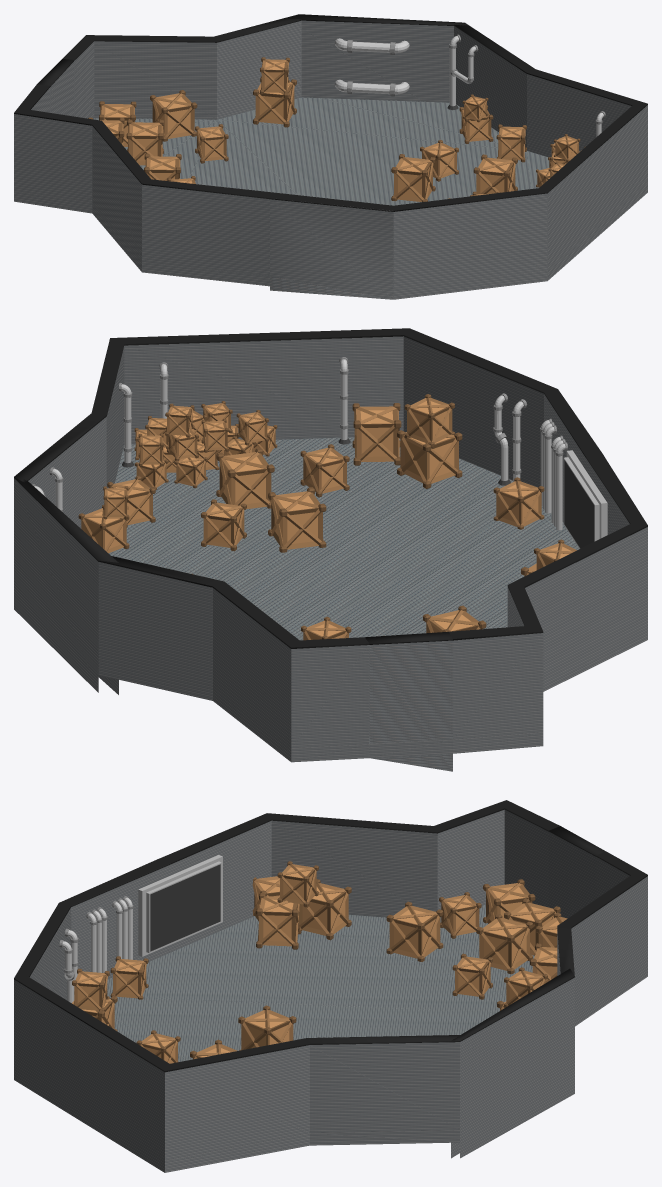
Rendered from Level Start Introduction.fbx.
3 renders of one model, top to bottom at view 1: azimuth 30°, elevation 25°; view 2: azimuth 150°, elevation 25°; view 3: azimuth 270°, elevation 25°, orthographic. The views are drawn at different scales.
Visible parts, largest first — view 1: Room7.001, Room7.002, Caja Madera.417, Caja Madera.388, Caja Madera.389, Caja Madera.418, Caja Madera.384, Caja Madera.393, Caja Madera.390, Caja Madera.392, Caja Madera.420, Tubo F.011 (+7 smaller); view 2: Room7.001, Room7.002, Cube.025, Caja Madera.417, Caja Madera.418, Caja Madera.323, Caja Madera.380, Caja Madera.398, Caja Madera.381, Caja Madera.419, Caja Madera.420, Caja Madera.391 (+18 smaller); view 3: Room7.001, Room7.002, Cube.025, Caja Madera.383, Caja Madera.384, Caja Madera.387, Caja Madera.396, Caja Madera.417, Caja Madera.394, Caja Madera.395, Caja Madera.393, Caja Madera.398 (+10 smaller).
Boxes of the visible parts, x1,y1,x2,y2 form: Room7.001: [14, 20, 647, 299]; Room7.002: [14, 14, 647, 211]; Caja Madera.417: [391, 154, 435, 202]; Caja Madera.388: [150, 90, 197, 141]; Caja Madera.389: [253, 77, 296, 127]; Caja Madera.418: [473, 154, 517, 193]; Caja Madera.384: [126, 119, 163, 165]; Caja Madera.393: [195, 124, 228, 163]; Caja Madera.390: [260, 57, 289, 94]; Caja Madera.392: [496, 124, 526, 162]; Caja Madera.420: [420, 139, 458, 181]; Tubo F.011: [447, 34, 478, 109]; Room7.001: [14, 336, 647, 771]; Room7.002: [14, 328, 647, 648]; Cube.025: [563, 450, 607, 548]; Caja Madera.417: [268, 487, 326, 552]; Caja Madera.418: [216, 448, 274, 509]; Caja Madera.323: [352, 403, 401, 465]; Caja Madera.380: [397, 430, 462, 488]; Caja Madera.398: [493, 477, 544, 529]; Caja Madera.381: [404, 394, 454, 447]; Caja Madera.419: [300, 444, 349, 497]; Caja Madera.420: [201, 499, 246, 551]; Caja Madera.391: [78, 505, 129, 553]; Room7.001: [14, 809, 647, 1172]; Room7.002: [14, 800, 647, 1072]; Cube.025: [138, 855, 222, 956]; Caja Madera.383: [386, 901, 443, 961]; Caja Madera.384: [476, 914, 532, 974]; Caja Madera.387: [298, 879, 351, 940]; Caja Madera.396: [256, 893, 301, 949]; Caja Madera.417: [238, 1005, 296, 1050]; Caja Madera.394: [439, 892, 481, 938]; Caja Madera.395: [277, 861, 318, 907]; Caja Madera.393: [452, 953, 492, 999]; Caja Madera.398: [110, 956, 148, 999].
Bounding box in the file's own units: 2314 × 468 × 2286.
